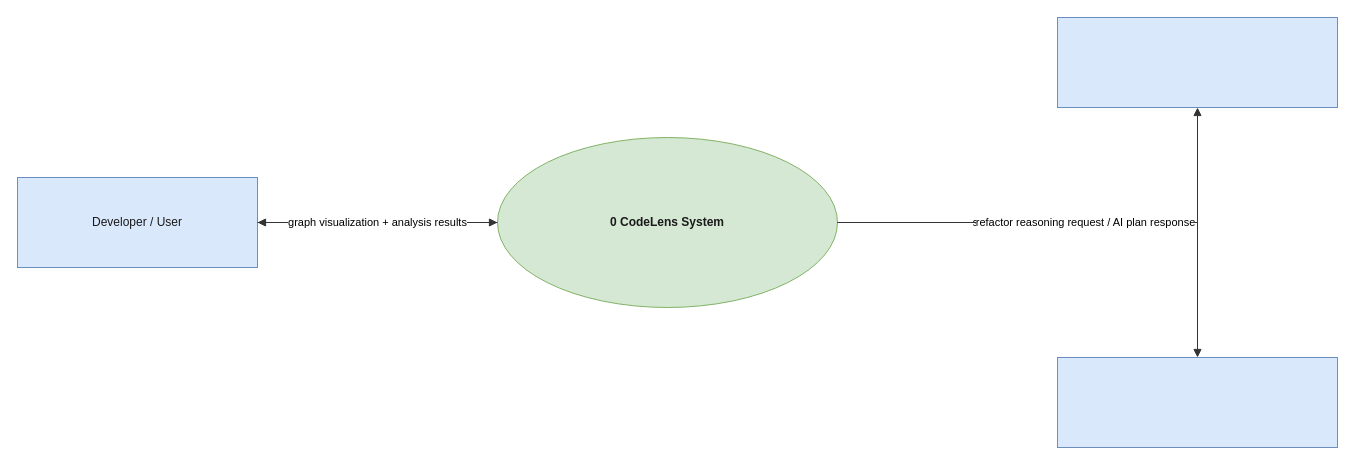
The diagram is 1355 pixels wide and 465 high, and some of its shapes have lost their labels. The centre of each missing label's shape, as x and y in pixels:
"Groq LLM API" goes at [1197,402].
"Neo4j Aura (cloud graph DB)" goes at [1197,62].
